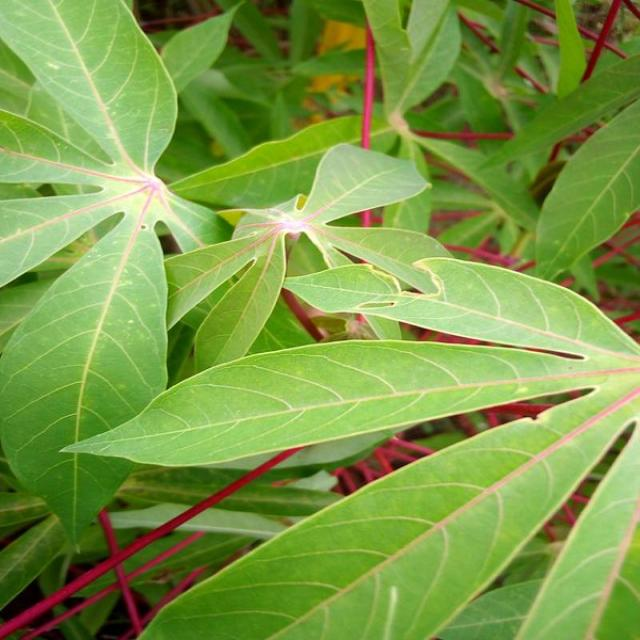cassava leaf: (0, 1, 638, 637), (0, 211, 170, 553)
